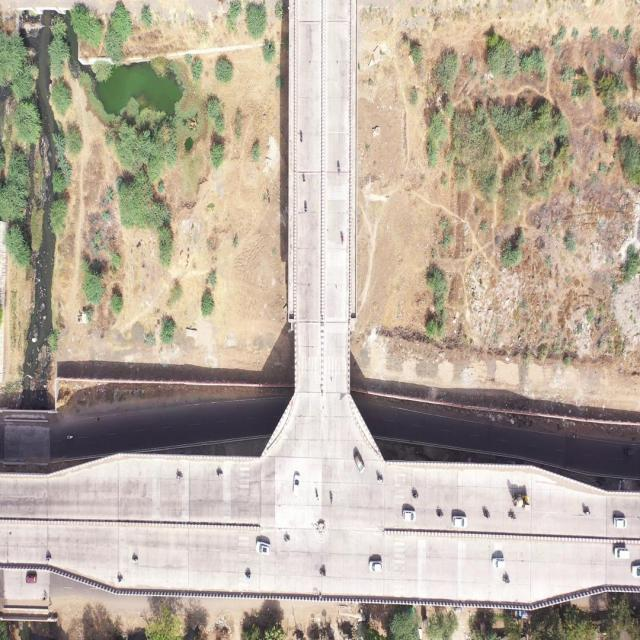Cars: (255, 537, 274, 560), (609, 543, 632, 562), (351, 450, 367, 477), (400, 506, 421, 526), (610, 514, 630, 534), (291, 468, 303, 500), (450, 511, 469, 530), (488, 553, 507, 572), (368, 559, 384, 580), (23, 571, 40, 587), (622, 447, 636, 460)
M2W: (330, 154, 348, 178), (296, 126, 311, 151), (408, 482, 422, 504), (375, 468, 387, 491), (502, 508, 518, 525), (243, 563, 254, 587), (312, 482, 322, 508), (480, 504, 492, 524), (300, 198, 312, 218), (172, 471, 185, 488), (130, 550, 142, 568), (580, 504, 594, 519), (318, 560, 328, 580), (299, 169, 308, 191), (569, 430, 582, 445), (434, 506, 446, 522), (501, 573, 514, 587), (282, 529, 293, 545), (339, 227, 346, 252), (214, 468, 227, 481), (44, 548, 54, 564), (116, 572, 126, 587), (328, 489, 335, 508), (64, 432, 74, 445)
Truck: (511, 491, 532, 514)
